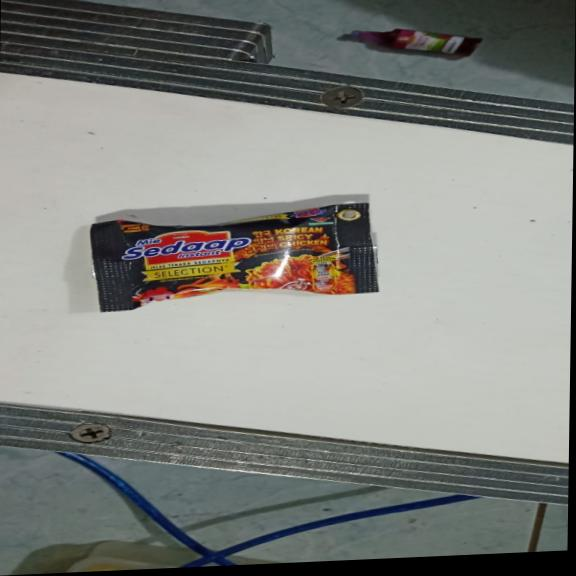Plastik: (89, 202, 381, 313), (347, 25, 481, 63)
